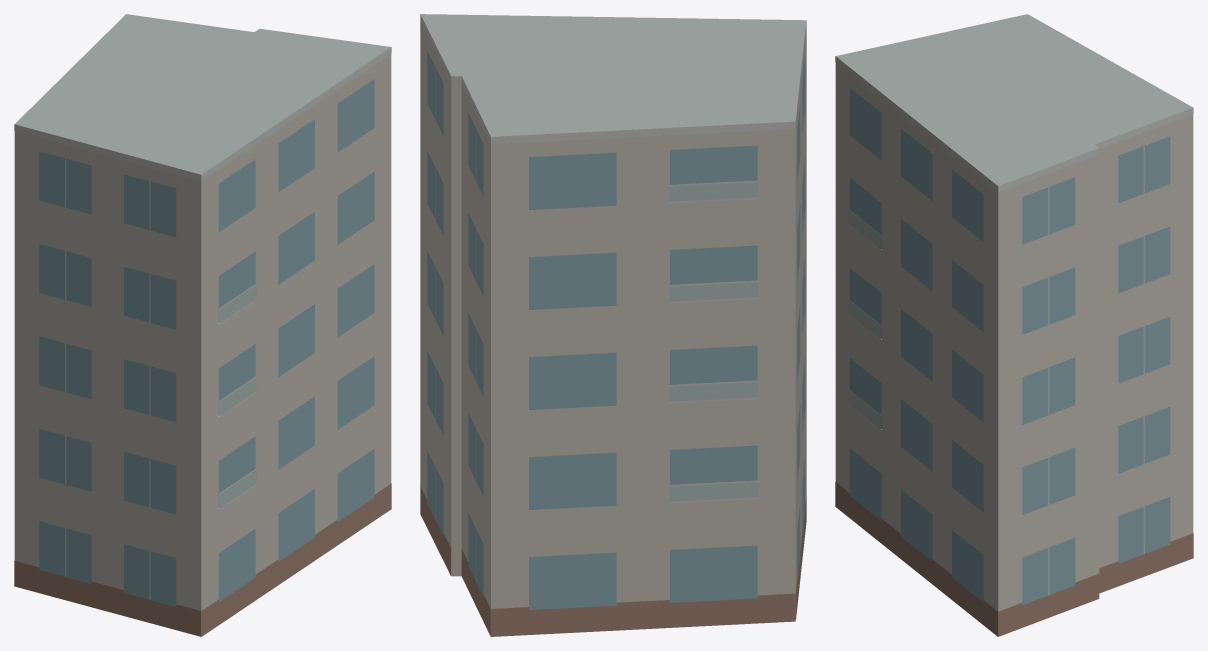
File: survey-upis-32688612.glb
The picture shows the model from 3 angles, left to right: view 1: azimuth 30°, elevation 25°; view 2: azimuth 150°, elevation 25°; view 3: azimuth 270°, elevation 25°; orthographic projection. The views are drawn at different scales.
Parts seen in each view (by area): view 1: survey-upis-32688612.tmp; view 2: survey-upis-32688612.tmp; view 3: survey-upis-32688612.tmp.
Boxes of the visible parts, box(x1,y1,x2,y2) form: survey-upis-32688612.tmp: box(14, 14, 391, 636); survey-upis-32688612.tmp: box(420, 14, 806, 636); survey-upis-32688612.tmp: box(835, 14, 1193, 636).
Bounding box in the file's own units: 13.86 × 16.9 × 12.17.
